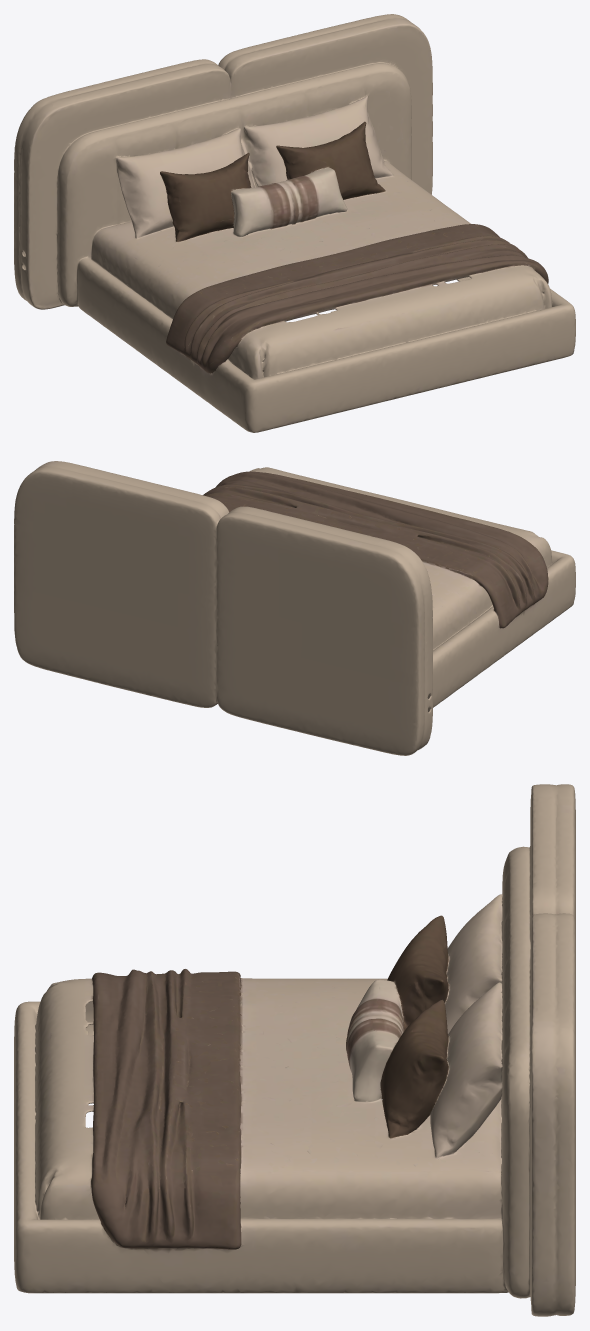
The model's file is Contemporary Upholstered Platform Bed with Layered Curved Headboard [Nj5Sua].glb.
The picture shows the model from 3 angles, top to bottom: view 1: azimuth 30°, elevation 25°; view 2: azimuth 150°, elevation 25°; view 3: azimuth 270°, elevation 25°; orthographic projection. The views are drawn at different scales.
Parts seen in each view (by area): view 1: world; view 2: world; view 3: world.
Boxes of the visible parts, box(x1,y1,x2,y2) form: world: box(14, 14, 575, 432); world: box(14, 461, 575, 755); world: box(14, 784, 575, 1316).
Size of the model in its own units: 1 by 0.4772 by 0.8503.
Materials: 1 (1 with a texture image).
